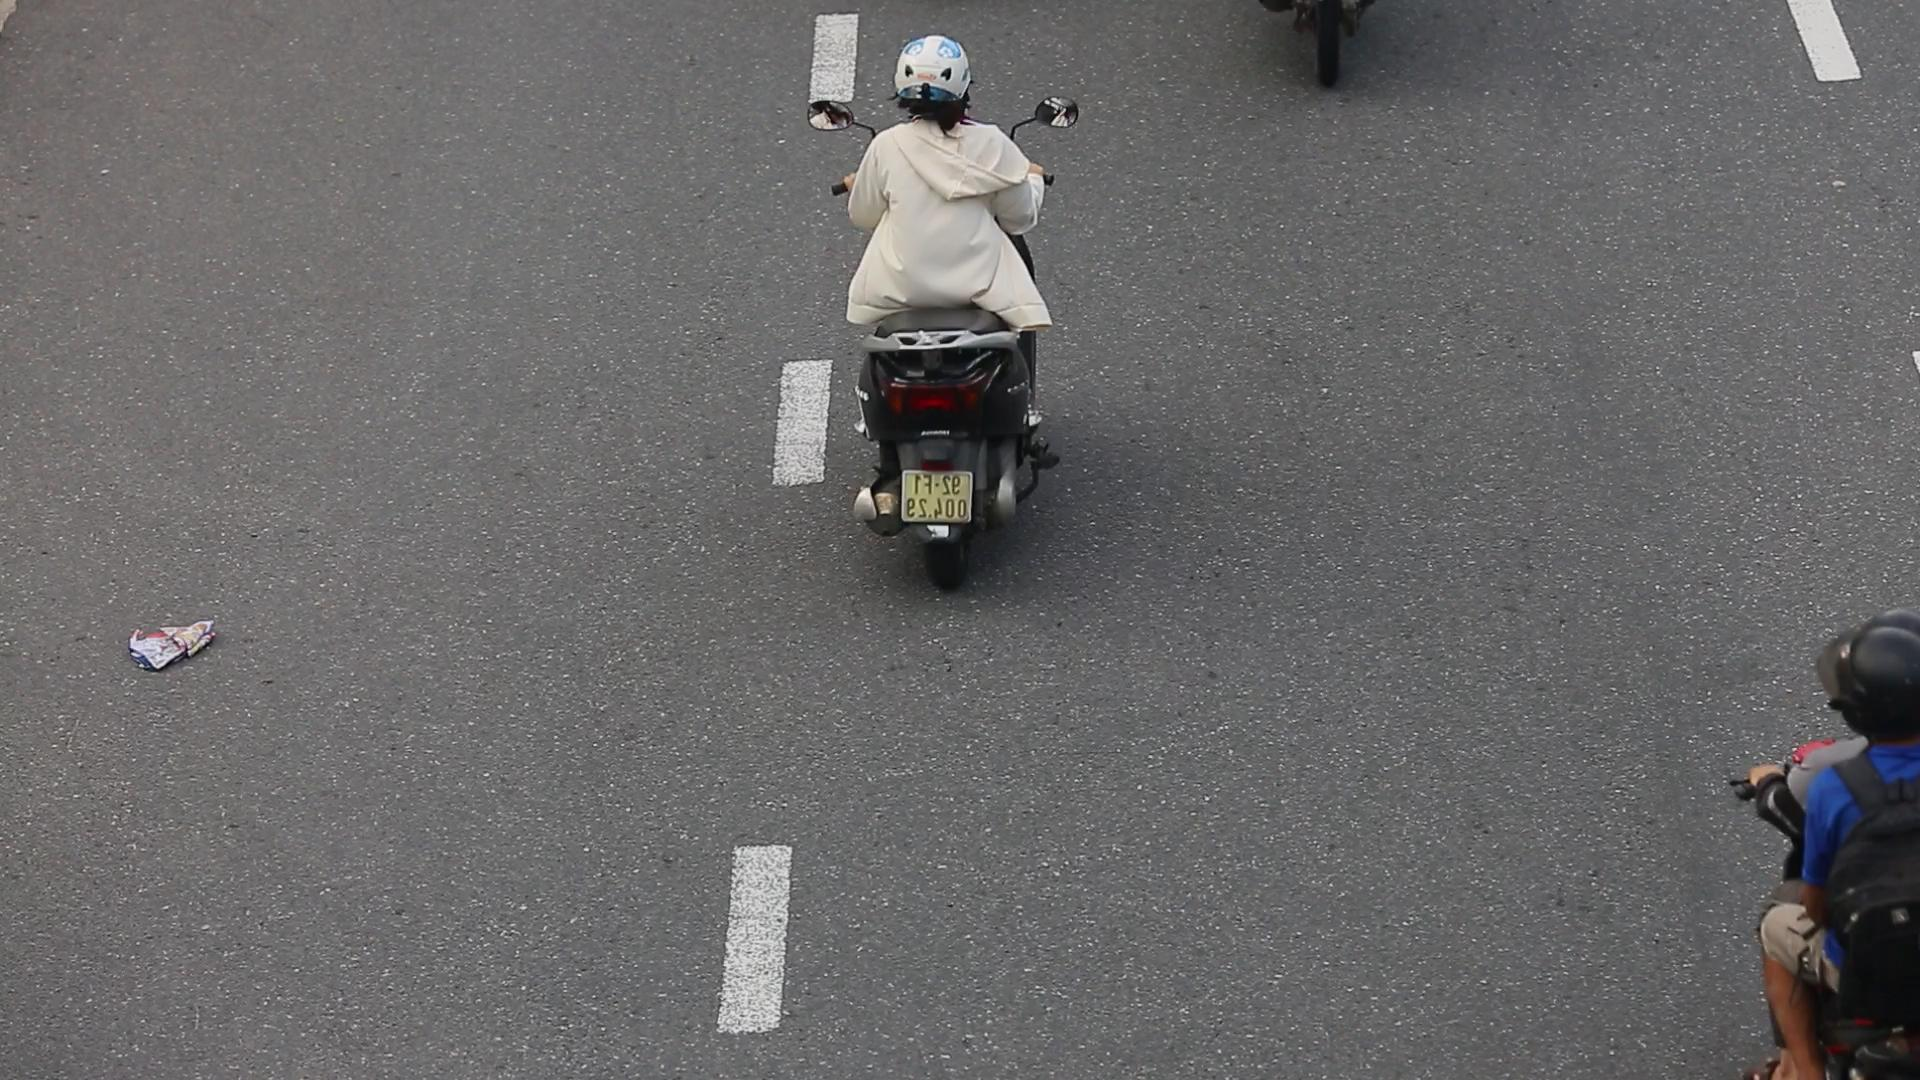motobike: (790, 17, 1083, 632)
